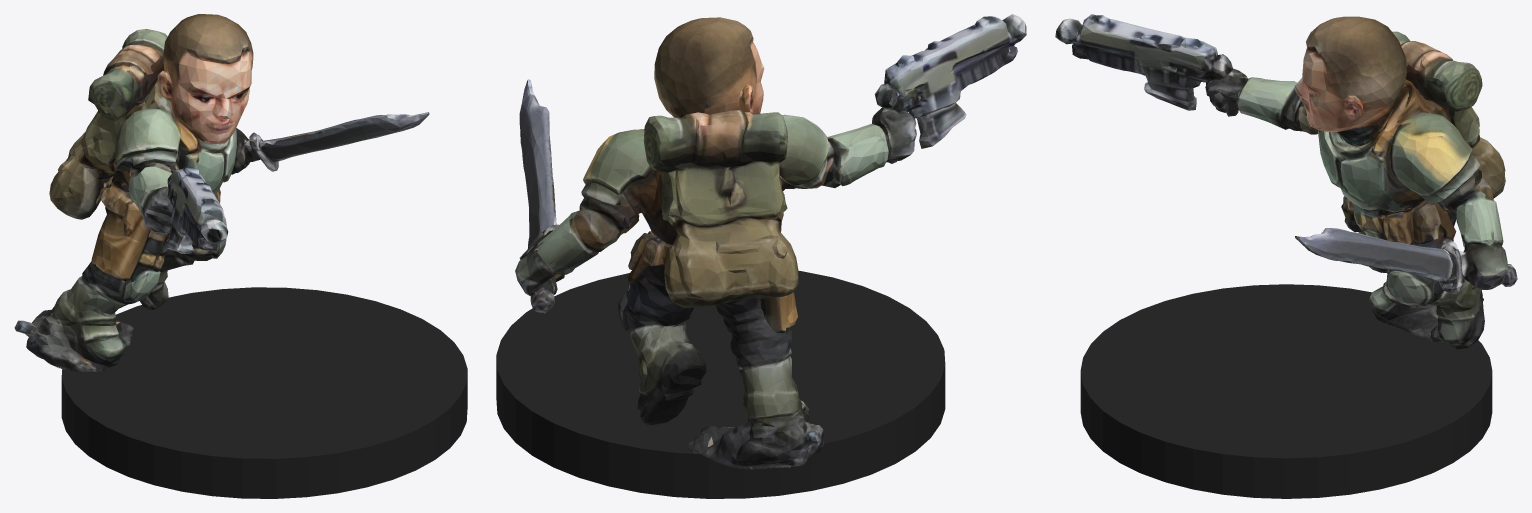
The model's file is ss-warrior-bolt-pistol-blade-b.glb.
3 renders of one model, left to right at view 1: azimuth 30°, elevation 25°; view 2: azimuth 150°, elevation 25°; view 3: azimuth 270°, elevation 25°, orthographic. The views are drawn at different scales.
Visible parts, largest first — view 1: base, figure; view 2: figure, base; view 3: base, figure.
Part boxes in pixels (box(x1,y1,x2,y2)): base: box(61, 287, 467, 498); figure: box(14, 14, 429, 372); figure: box(515, 14, 1026, 469); base: box(496, 270, 945, 498); base: box(1080, 284, 1492, 498); figure: box(1055, 14, 1517, 349).
Bounding box in the file's own units: 1.1 × 1.12 × 1.24.
Materials: 2 (1 with a texture image).
